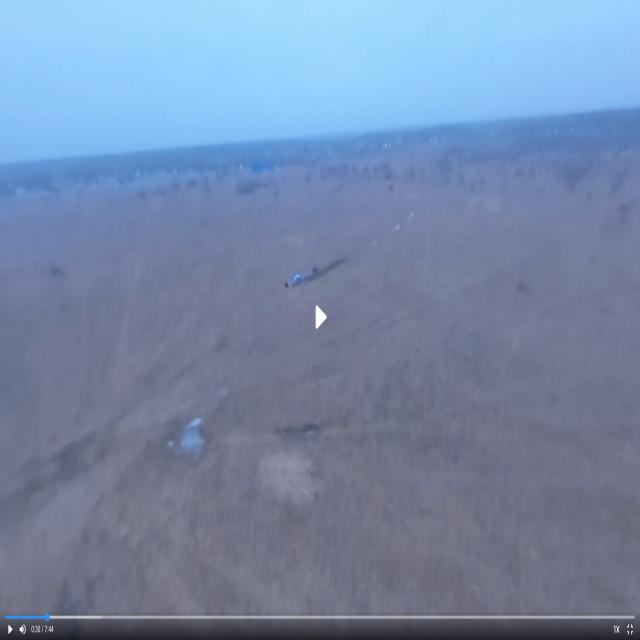planedrone: (284, 265, 322, 292)
